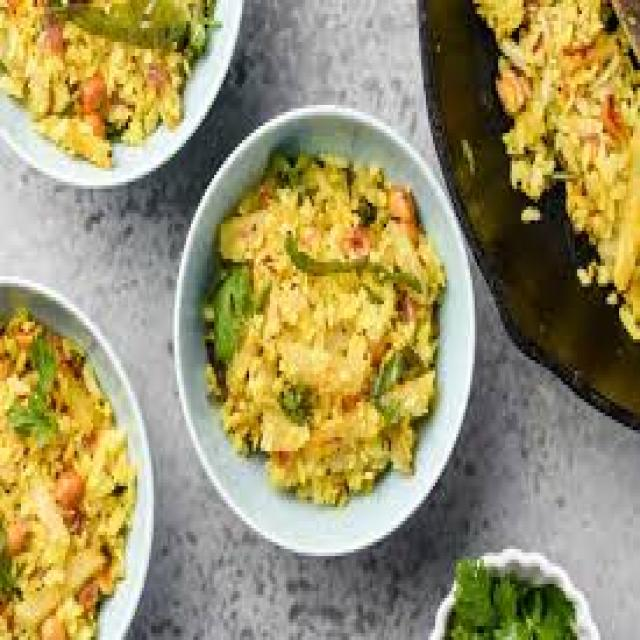POHA: (200, 154, 438, 497)
UPMA: (0, 311, 135, 637)
